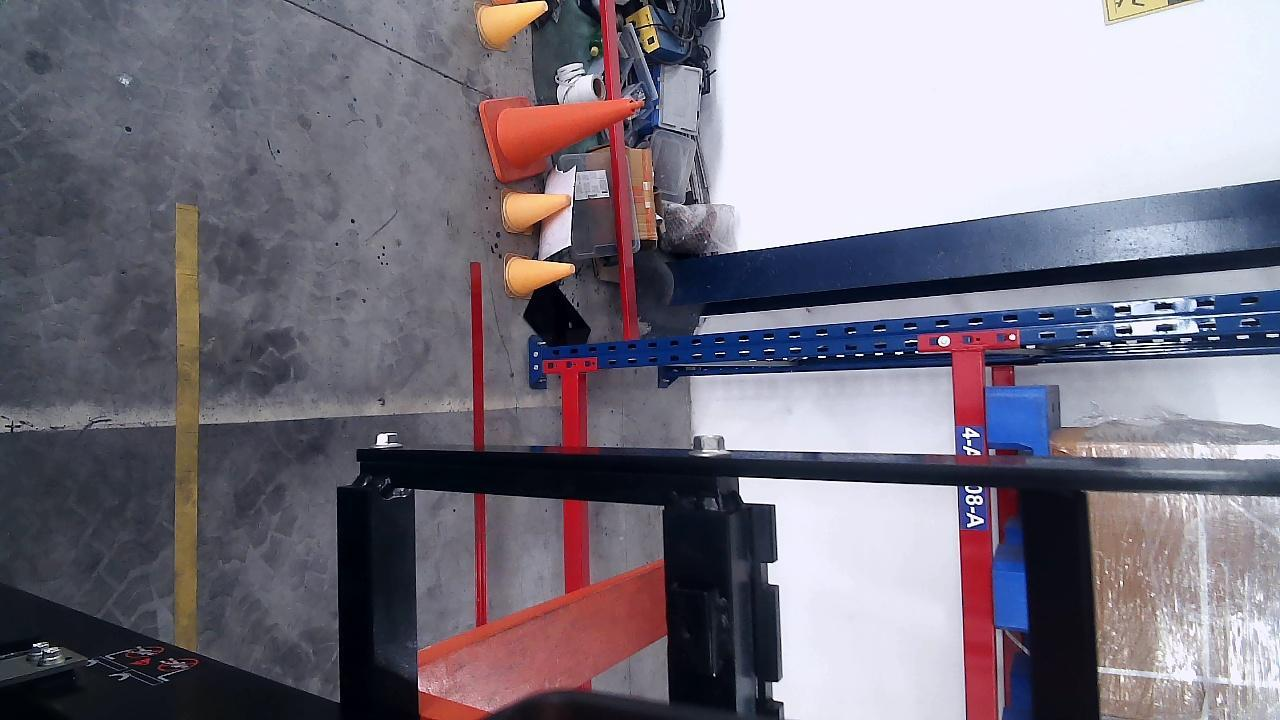h_rack: (952, 348, 998, 719), (557, 370, 584, 591)
red_line: (468, 256, 490, 620)
yellow_line: (175, 206, 197, 649)
